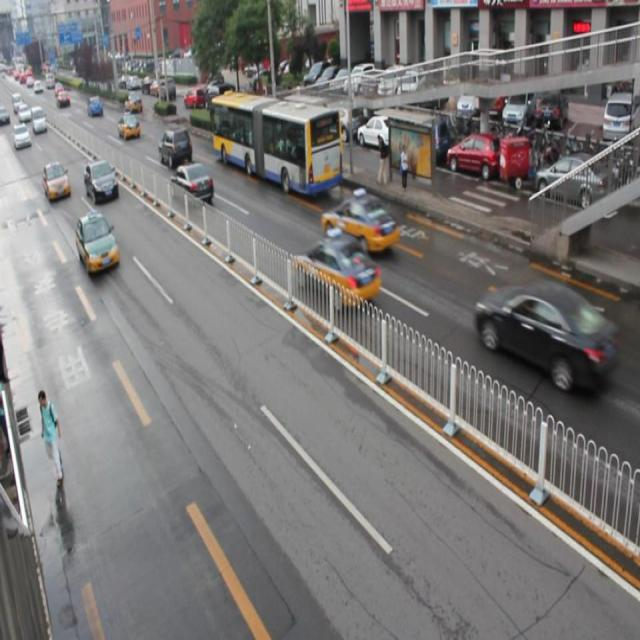car: (473, 280, 616, 390), (292, 231, 378, 306), (321, 190, 398, 254), (76, 210, 119, 271), (168, 162, 214, 206), (158, 126, 192, 167), (84, 162, 118, 203), (41, 159, 70, 202)
van: (210, 91, 341, 196)
